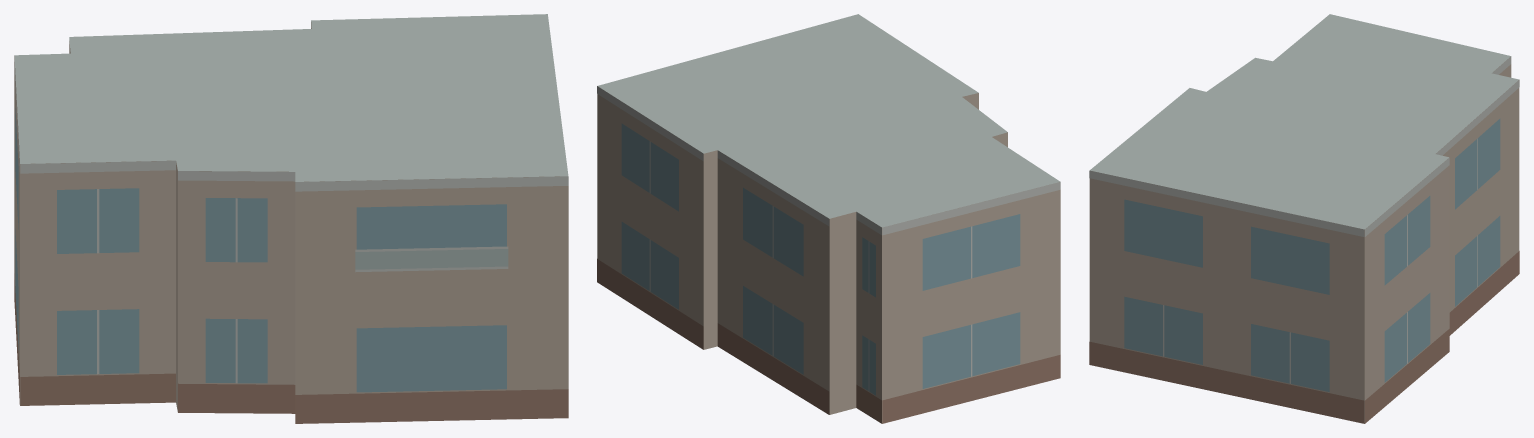
The model's file is survey-upis-32702584.glb.
The picture shows the model from 3 angles, left to right: view 1: azimuth 30°, elevation 25°; view 2: azimuth 150°, elevation 25°; view 3: azimuth 270°, elevation 25°; orthographic projection. The views are drawn at different scales.
Visible parts, largest first — view 1: survey-upis-32702584.tmp; view 2: survey-upis-32702584.tmp; view 3: survey-upis-32702584.tmp.
Boxes of the visible parts, bbox=[...] form: survey-upis-32702584.tmp: bbox=[14, 14, 568, 423]; survey-upis-32702584.tmp: bbox=[597, 14, 1060, 423]; survey-upis-32702584.tmp: bbox=[1089, 14, 1519, 423].
Bounding box in the file's own units: 14.51 × 6.1 × 12.24.
